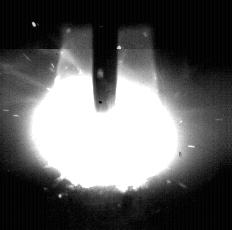arame: (94, 0, 117, 112)
poca: (30, 0, 179, 230)
